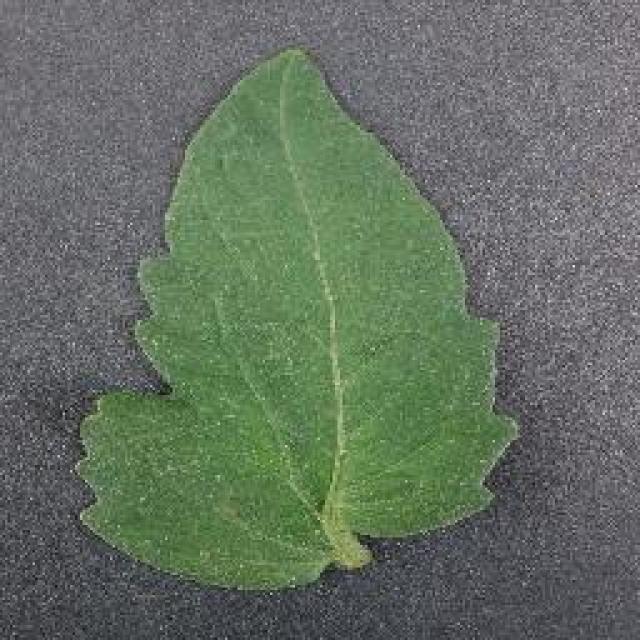Tomato_Healthy: (55, 30, 537, 595)
